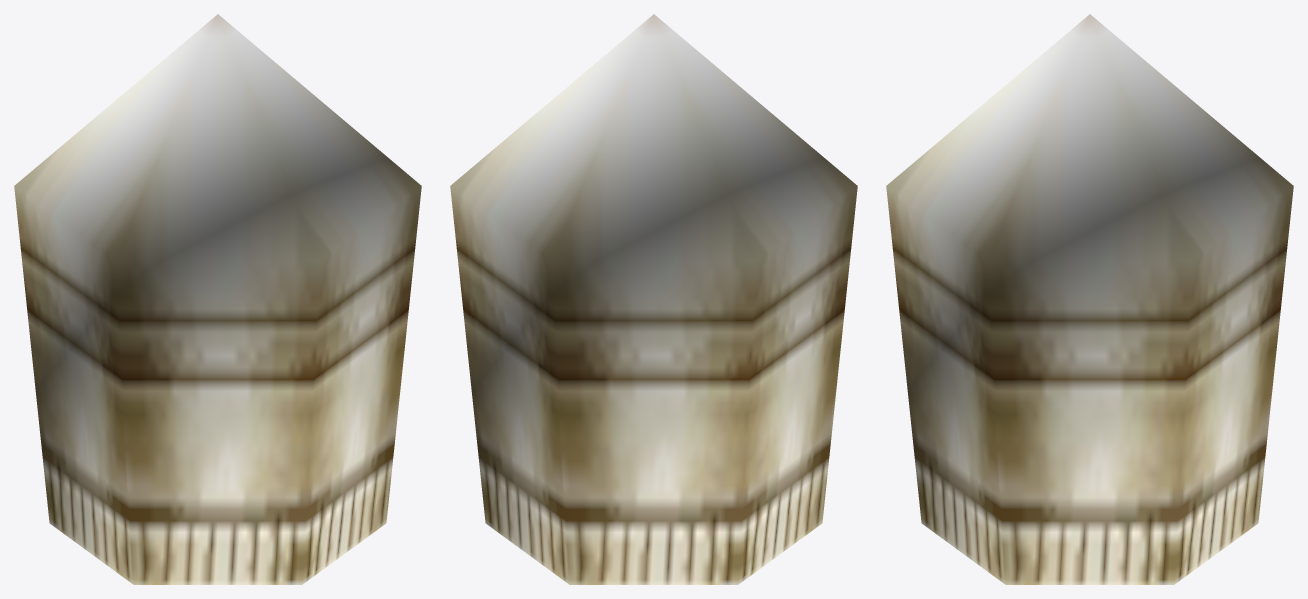
Rendered from gunshopmortarshell.obj.
3 views of the same model, side by side, from view 1: azimuth 30°, elevation 25°; view 2: azimuth 150°, elevation 25°; view 3: azimuth 270°, elevation 25° (orthographic).
Parts seen in each view (by area): view 1: gunshopmortarshell.m2; view 2: gunshopmortarshell.m2; view 3: gunshopmortarshell.m2.
Boxes of the visible parts, bbox=[...] form: gunshopmortarshell.m2: bbox=[14, 14, 421, 584]; gunshopmortarshell.m2: bbox=[450, 14, 857, 584]; gunshopmortarshell.m2: bbox=[886, 14, 1293, 584].
Size of the model in its own units: 0.3153 by 0.502 by 0.3641.
1 material, 1 textured.
